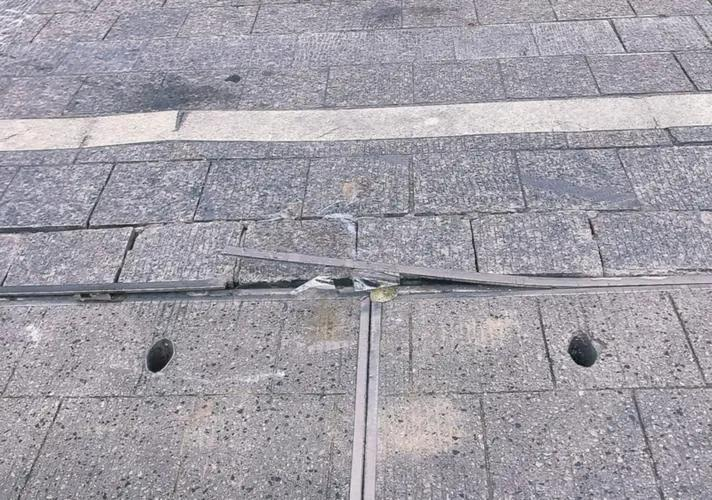wellcover: (0, 241, 712, 500)
